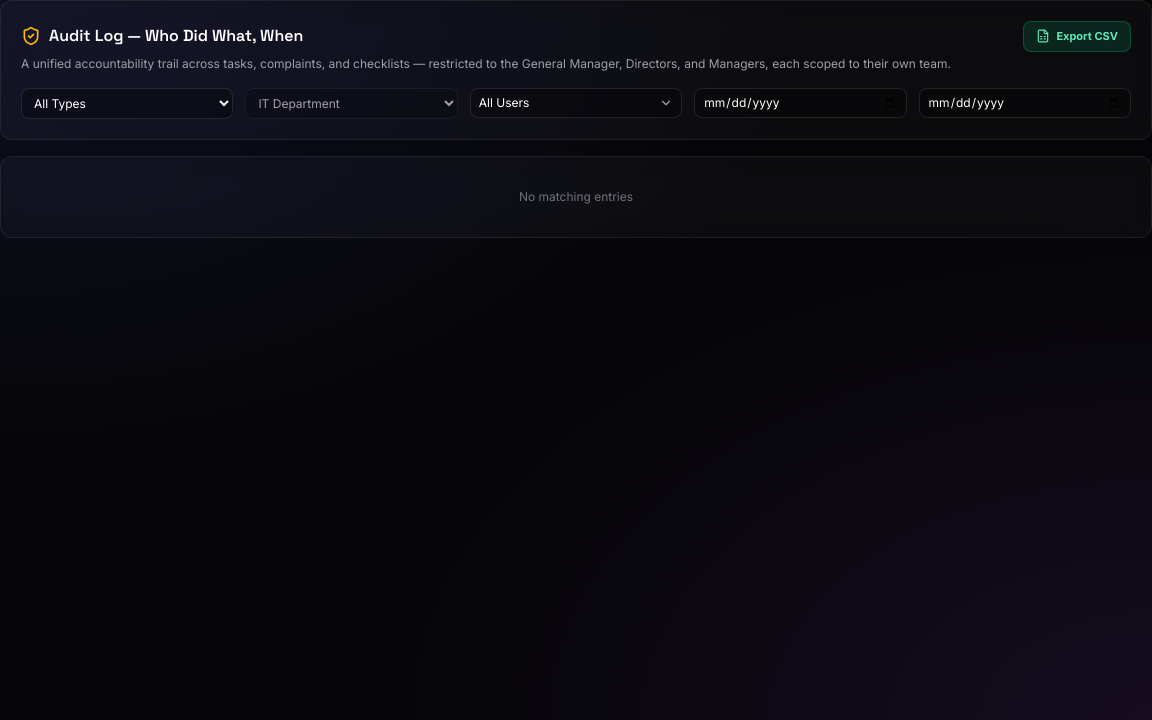
Test: AuditLog › non-GM user picker is scoped to self + direct reports only
Step 1. Click the button "All Users" → (576, 102), box [470,88,682,118]
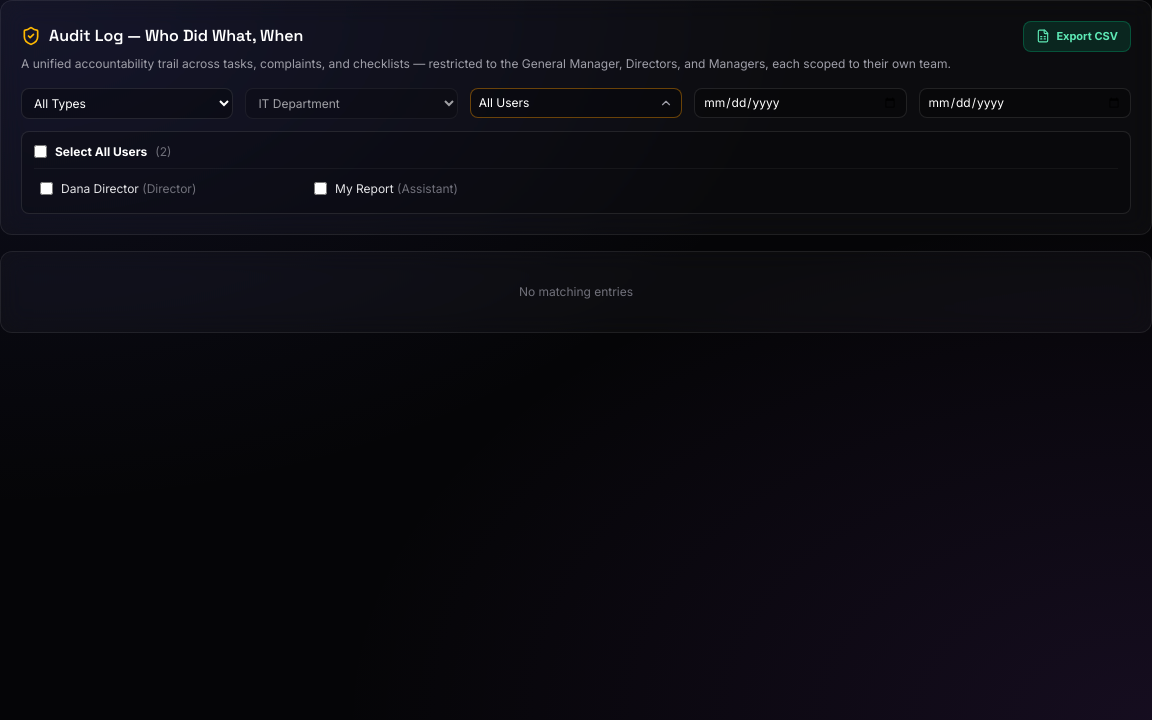
Check: the text "My Report (Assistant)" is shown, box [335,180,458,196]
Check: the text "Dana Director (Director)" is shown, box [61,180,196,196]
